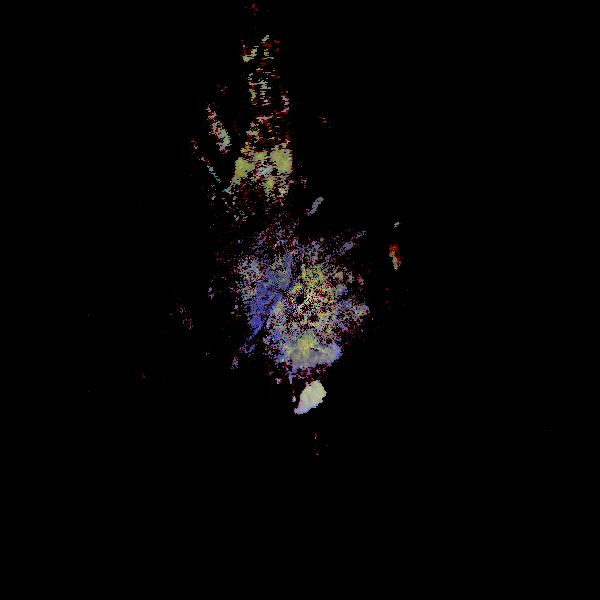roost: (373, 194, 475, 296), (254, 329, 350, 425), (276, 394, 345, 463)
